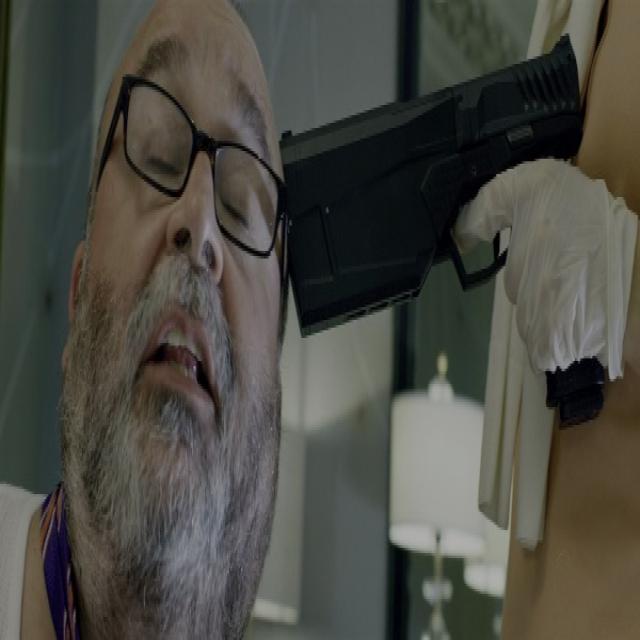weapons: (276, 25, 612, 428)
